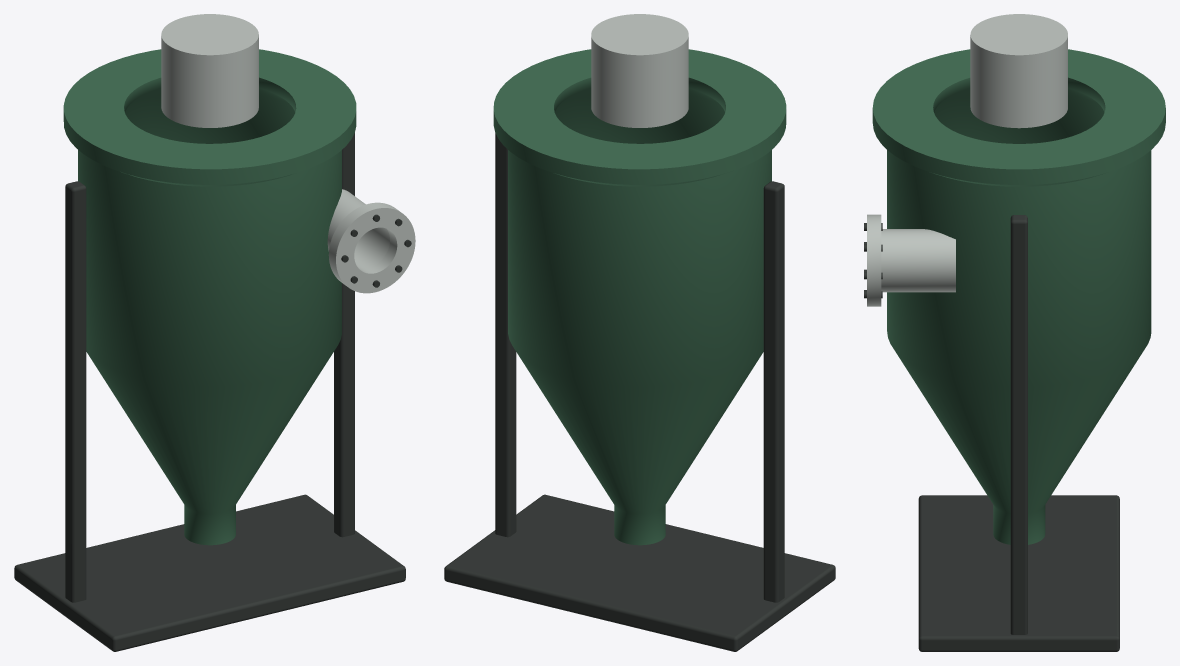
The model's file is sawmill-and-timber-yard-extraction-cyclone-005ed31e__31181.glb.
3 renders of one model, left to right at view 1: azimuth 30°, elevation 25°; view 2: azimuth 150°, elevation 25°; view 3: azimuth 270°, elevation 25°, orthographic.
Visible parts, largest first — view 1: extraction-cyclone; view 2: extraction-cyclone; view 3: extraction-cyclone.
Part boxes in pixels (<box>): extraction-cyclone: <box>14,14,415,651</box>; extraction-cyclone: <box>444,14,835,651</box>; extraction-cyclone: <box>864,14,1165,651</box>.
Bounding box in the file's own units: 1.18 × 2.1 × 1.05.
